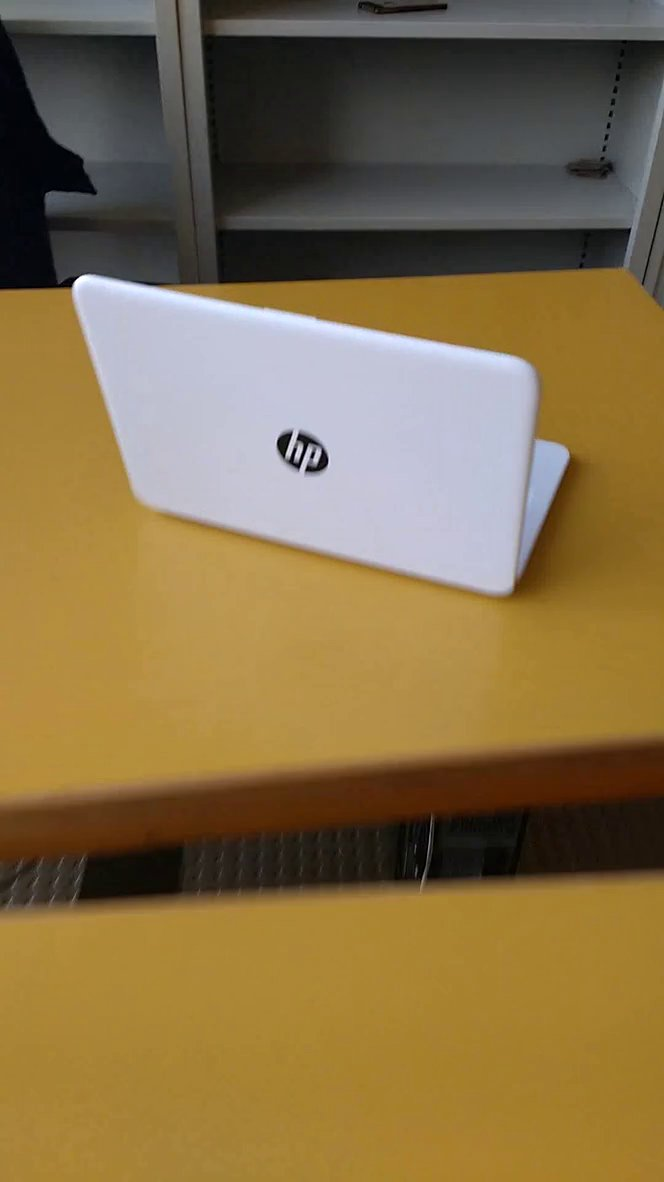laptop: (60, 255, 587, 606)
